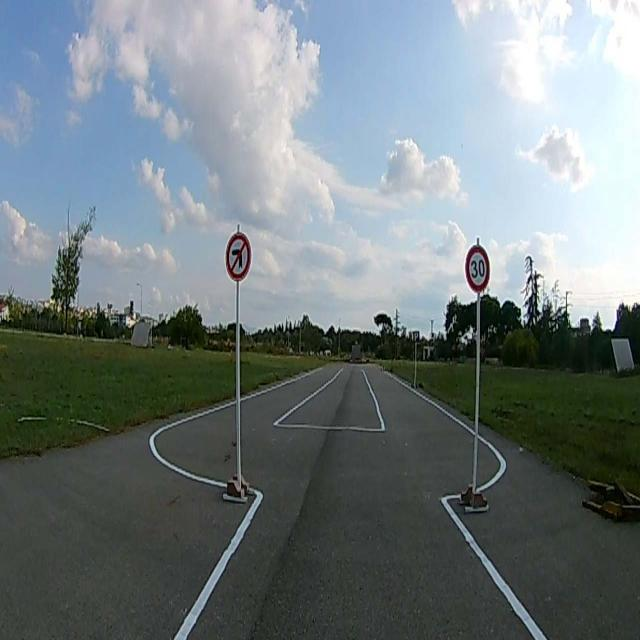30: (467, 245, 491, 290)
soladonulmez: (226, 233, 252, 282)
